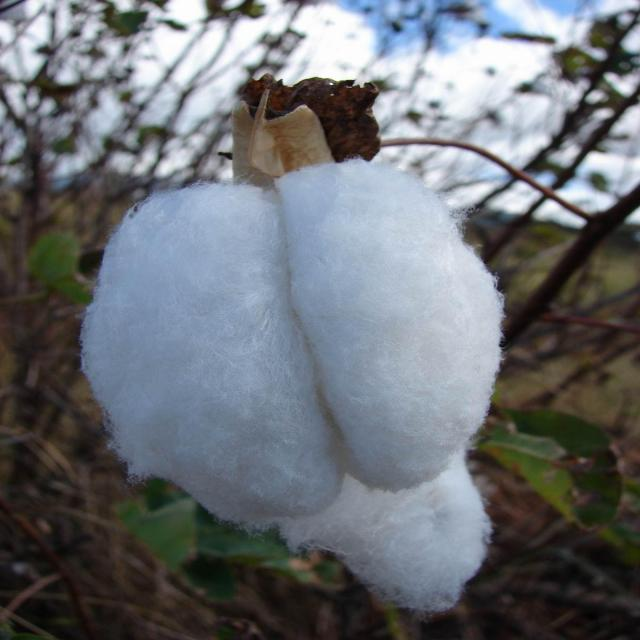Late_blight: (82, 70, 512, 622)
